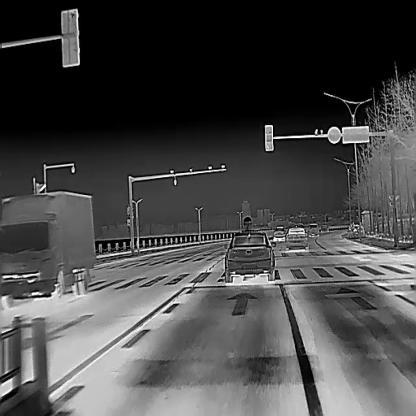car: (0, 189, 96, 309), (224, 232, 275, 281), (285, 227, 309, 250), (273, 225, 286, 241), (308, 222, 321, 236), (319, 223, 328, 231)
